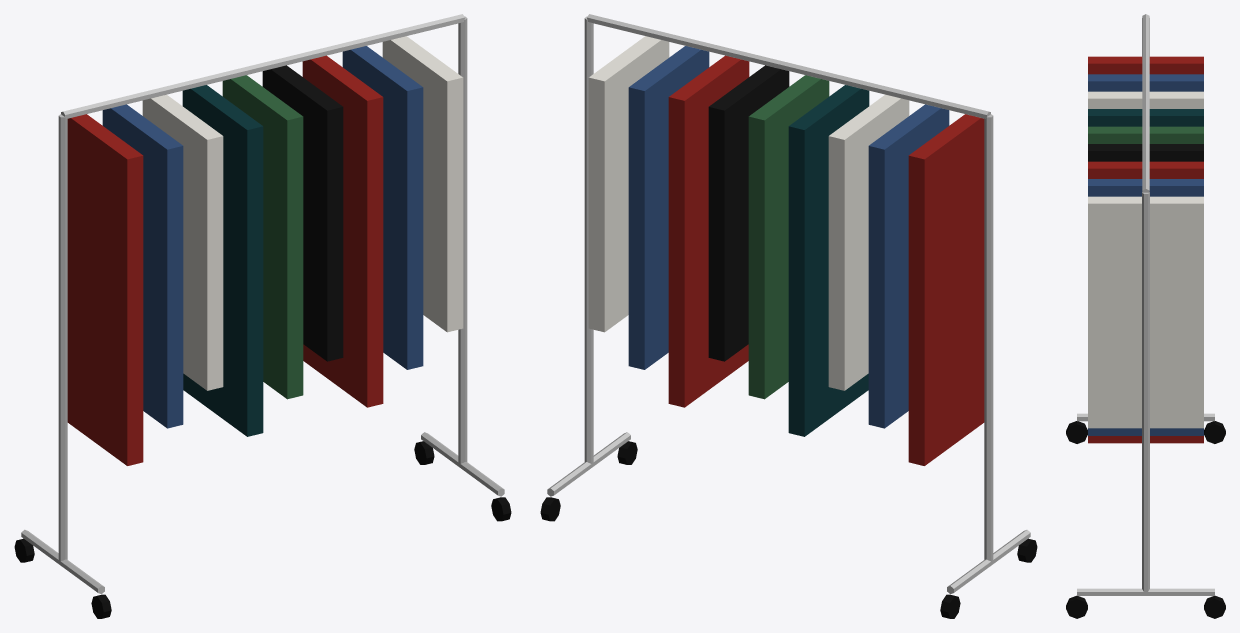
The model's file is venue.backstage.costume_rail.glb.
The picture shows the model from 3 angles, left to right: view 1: azimuth 30°, elevation 25°; view 2: azimuth 150°, elevation 25°; view 3: azimuth 270°, elevation 25°; orthographic projection. The views are drawn at different scales.
Parts seen in each view (by area): view 1: main__fabric_red, main__fabric_blue, main__fabric_white, main__velvet_teal, main__fabric_green, main__steel_stainless, main__leather_black, main__rubber; view 2: main__fabric_red, main__fabric_blue, main__fabric_white, main__velvet_teal, main__fabric_green, main__steel_stainless, main__leather_black, main__rubber; view 3: main__fabric_white, main__steel_stainless, main__fabric_red, main__fabric_blue, main__leather_black, main__velvet_teal, main__fabric_green, main__rubber.
Part boxes in pixels (left/top/right/bottom): main__fabric_red: left=67, top=55, right=383, bottom=465; main__fabric_blue: left=102, top=46, right=423, bottom=428; main__fabric_white: left=142, top=36, right=463, bottom=390; main__velvet_teal: left=182, top=85, right=263, bottom=436; main__fabric_green: left=222, top=75, right=303, bottom=399; main__steel_stainless: left=21, top=14, right=504, bottom=594; main__leather_black: left=262, top=65, right=343, bottom=361; main__rubber: left=14, top=441, right=511, bottom=618; main__fabric_red: left=668, top=55, right=984, bottom=465; main__fabric_blue: left=628, top=46, right=949, bottom=428; main__fabric_white: left=588, top=36, right=909, bottom=390; main__velvet_teal: left=788, top=85, right=869, bottom=436; main__fabric_green: left=748, top=75, right=829, bottom=399; main__steel_stainless: left=547, top=14, right=1030, bottom=594; main__leather_black: left=708, top=65, right=789, bottom=361; main__rubber: left=540, top=441, right=1037, bottom=618; main__fabric_white: left=1088, top=91, right=1203, bottom=428; main__steel_stainless: left=1077, top=14, right=1214, bottom=595; main__fabric_red: left=1088, top=56, right=1203, bottom=443; main__fabric_blue: left=1088, top=74, right=1203, bottom=435; main__leather_black: left=1088, top=144, right=1203, bottom=161; main__velvet_teal: left=1088, top=109, right=1203, bottom=126; main__fabric_green: left=1088, top=126, right=1203, bottom=143; main__rubber: left=1066, top=421, right=1225, bottom=618.
Size of the model in its own units: 1.53 by 1.72 by 0.58.
